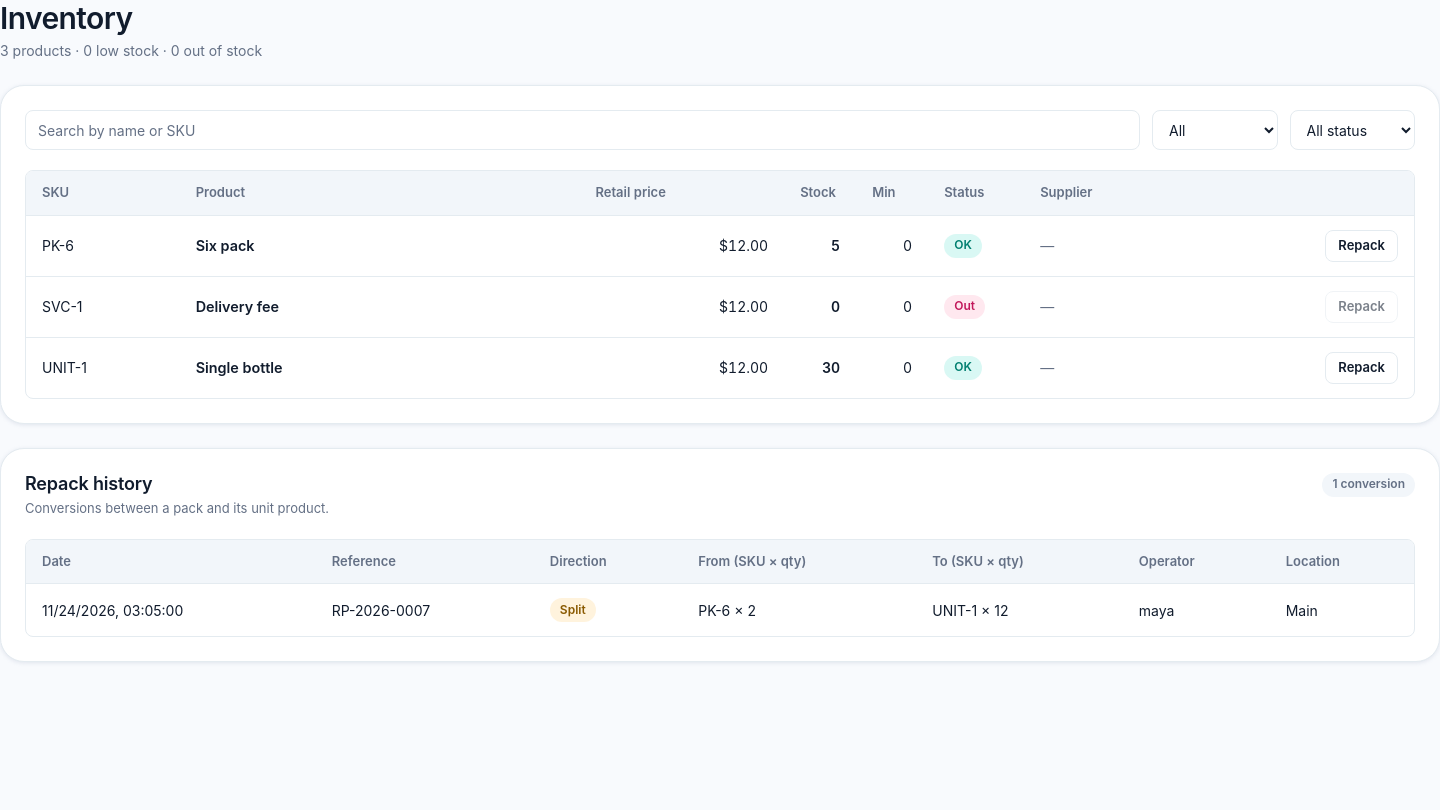
Test: InventoryPage repack dialog success (AC-43) › closes the dialog, shows the returned reference and refreshes both lists
Click the button with aria-label "Repack Six pack". click: coordinates (1362, 246)
box: 1325,230 -> 1398,262
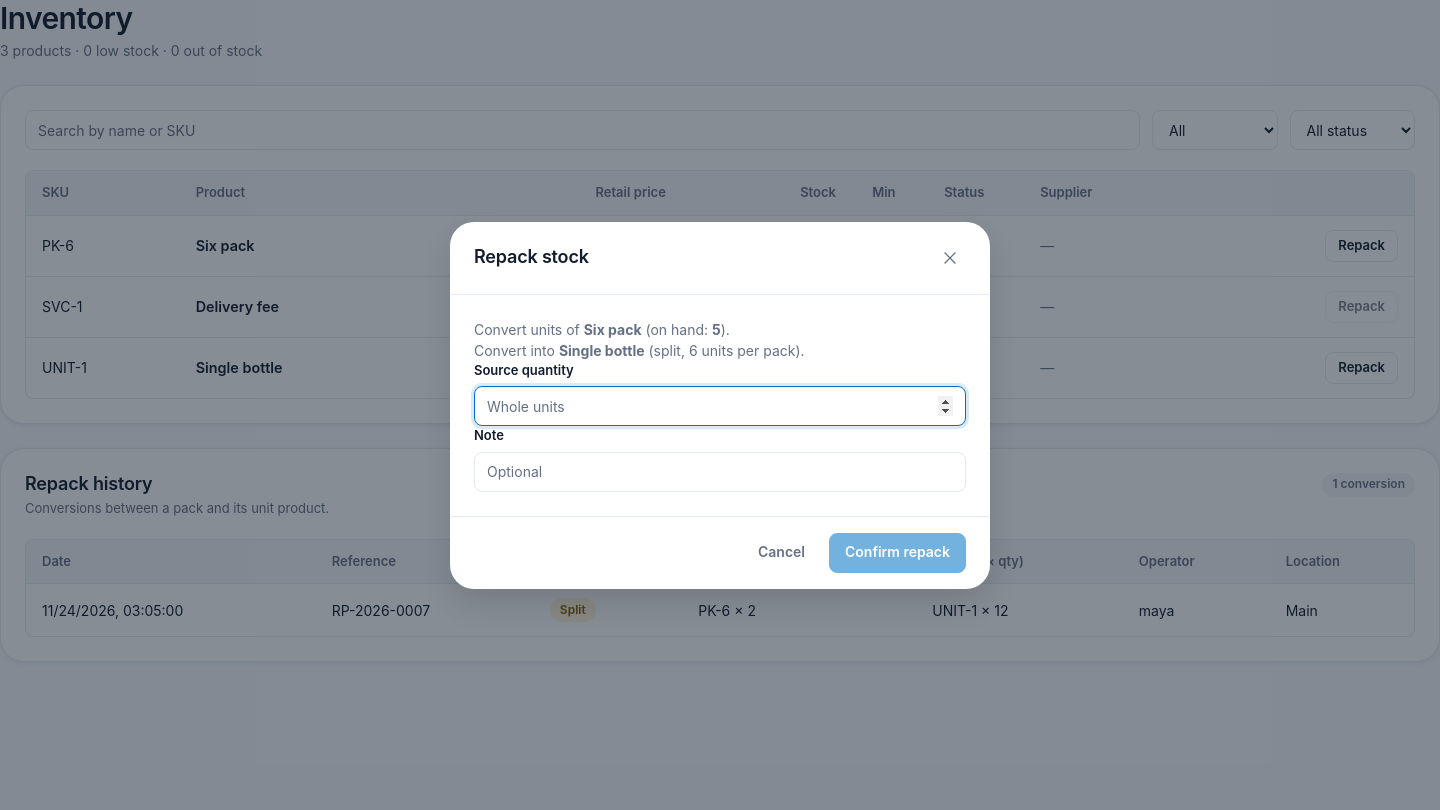
Type "2" into the number field labelled "Source quantity". click: coordinates (720, 406)
box: 474,386 -> 966,426
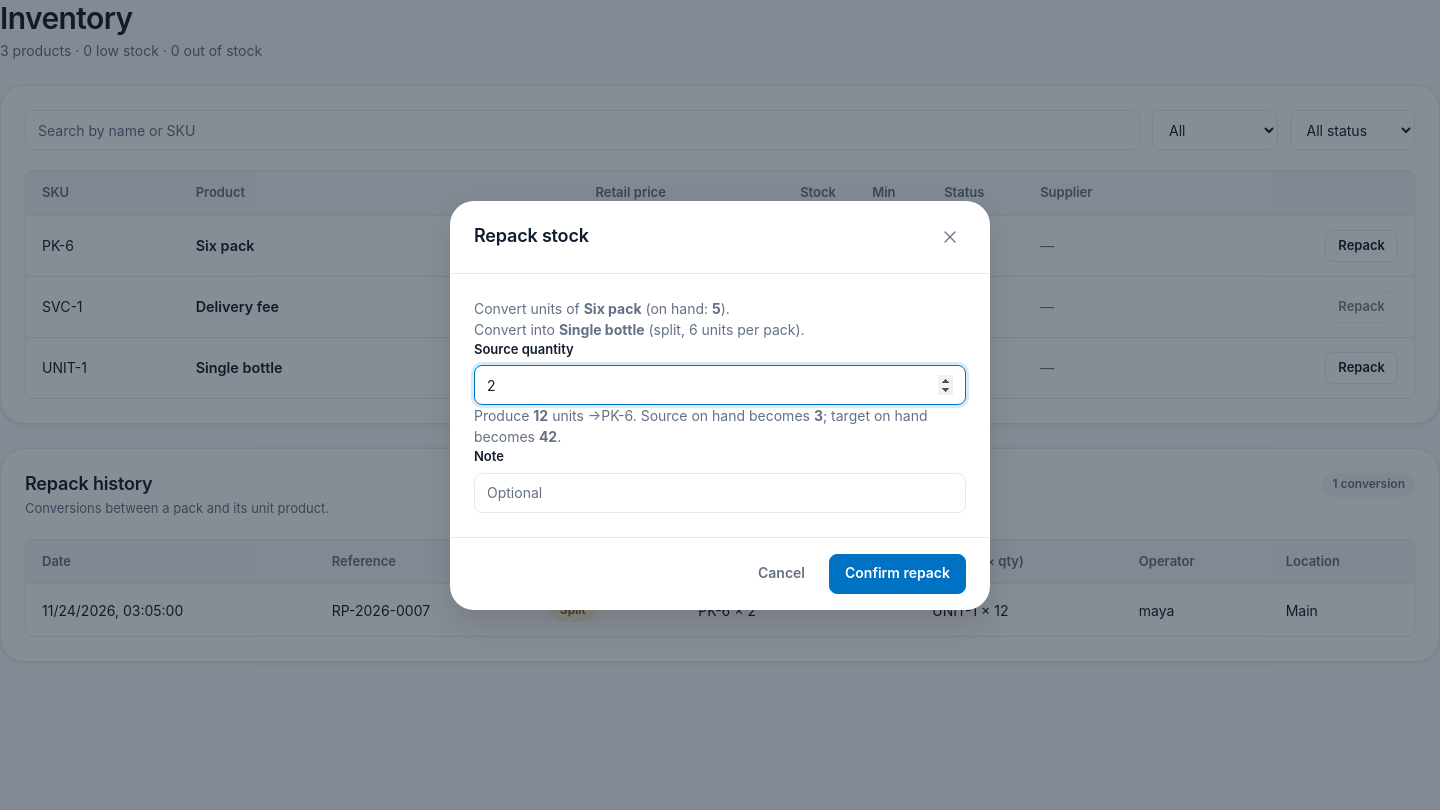
Click the button "Confirm repack". click: coordinates (898, 574)
box: 829,554 -> 966,594
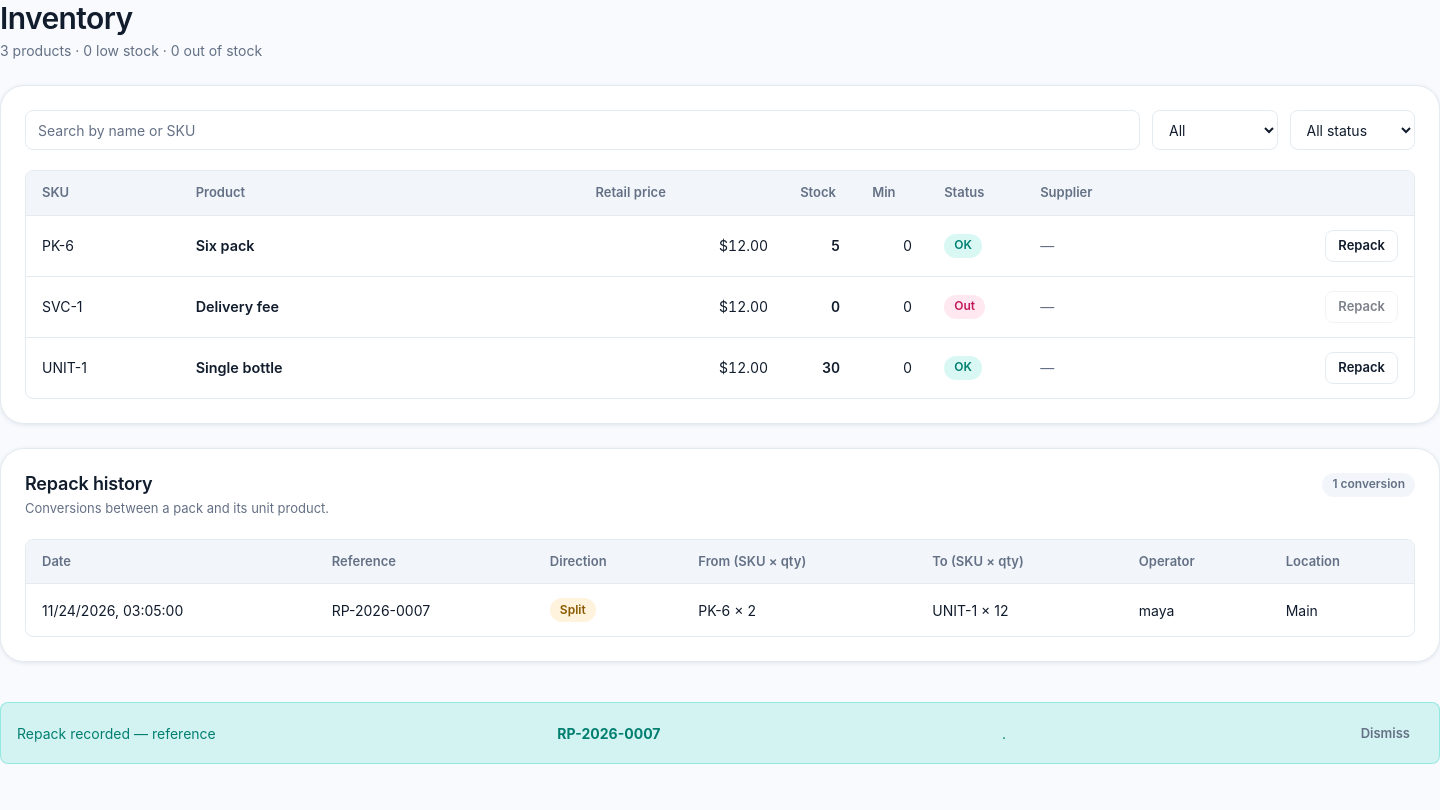
Expected: the heading "Repack stock" is gone
Expected: the message shows "Repack recorded", 17,725 -> 216,742
Expected: the message shows "RP-2026-0007", 557,725 -> 660,742
